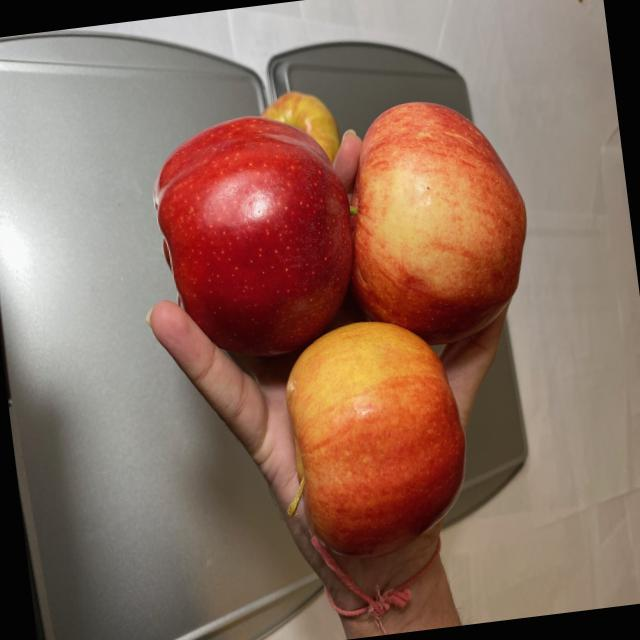apple: (140, 62, 570, 587)
